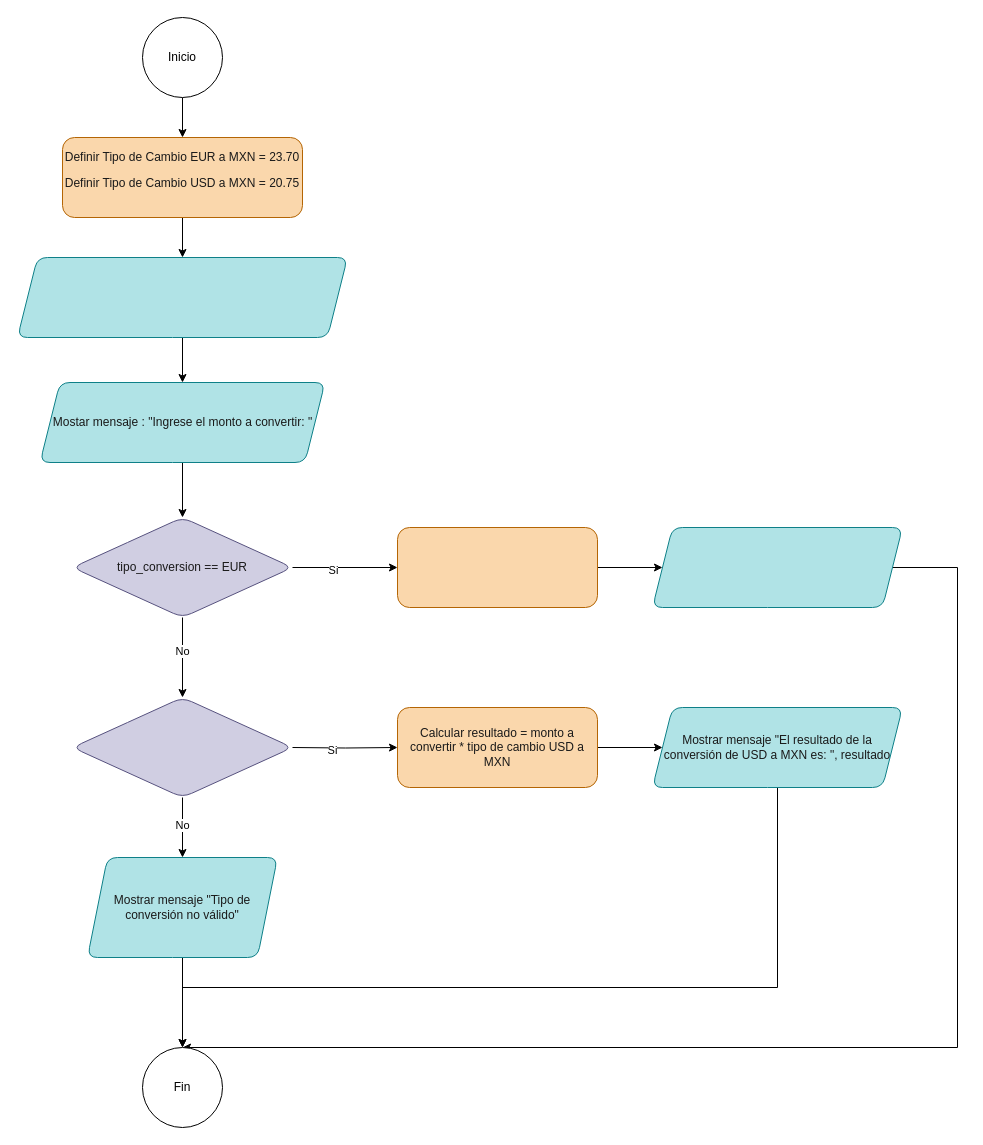
This 983x1145 diagram has some shape labels left out. Here are the shapes that lost their labels. From the top down, the box of each, then its label:
(16, 256, 348, 338): Mostrar mensaje: "Ingrese la moneda origen para la conversión (EUR/USD): "
(396, 526, 598, 608): C alcular resultado = monto a convertir * tipo de cambio EUR a MXN
(652, 526, 902, 608): Mo strar mensaje "El resultado de la conversión de EUR a MXN es: ", resultado
(72, 696, 292, 798): tipo_conversion == USD
